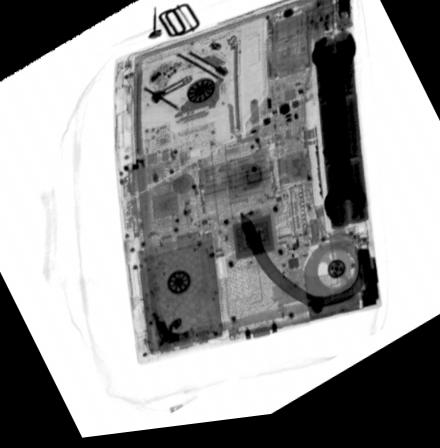Wrench: (309, 39, 368, 241)
